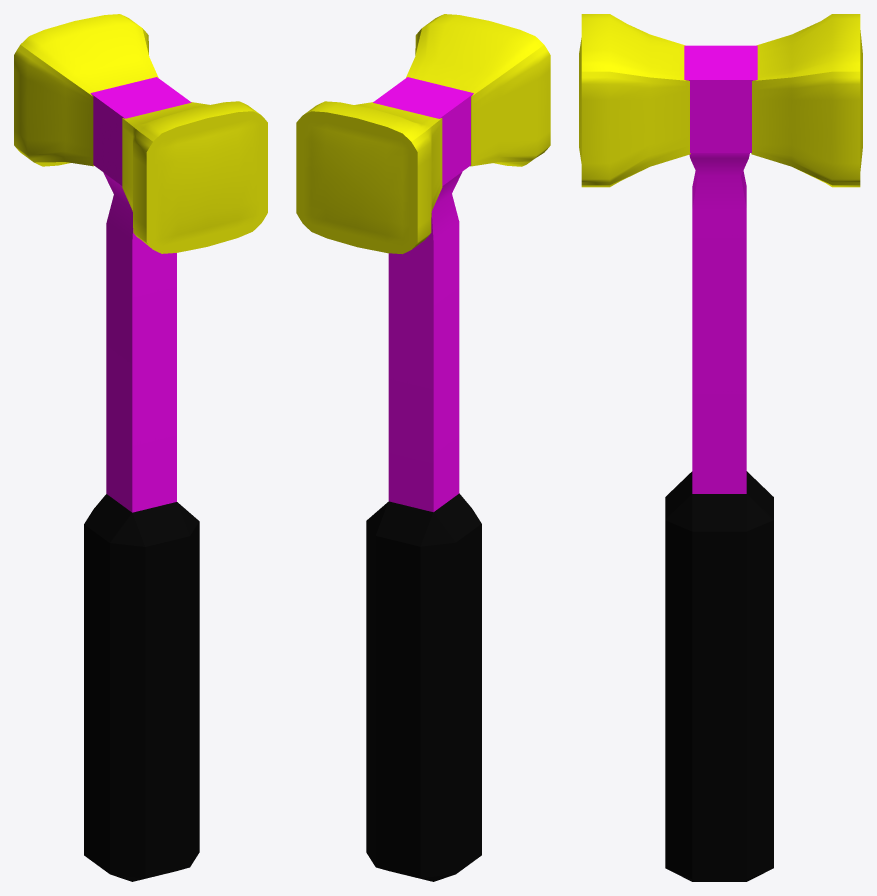
Rendered from TextureHammer.obj.
3 renders of one model, left to right at view 1: azimuth 30°, elevation 25°; view 2: azimuth 150°, elevation 25°; view 3: azimuth 270°, elevation 25°, orthographic. The views are drawn at different scales.
Visible parts, largest first — view 1: pCube5; view 2: pCube5; view 3: pCube5.
Part boxes in pixels (box(x1,y1,x2,y2)): pCube5: box(14, 14, 267, 881); pCube5: box(296, 14, 550, 881); pCube5: box(579, 14, 862, 881).
Bounding box in the file's own units: 1.82 × 11.45 × 3.52.
